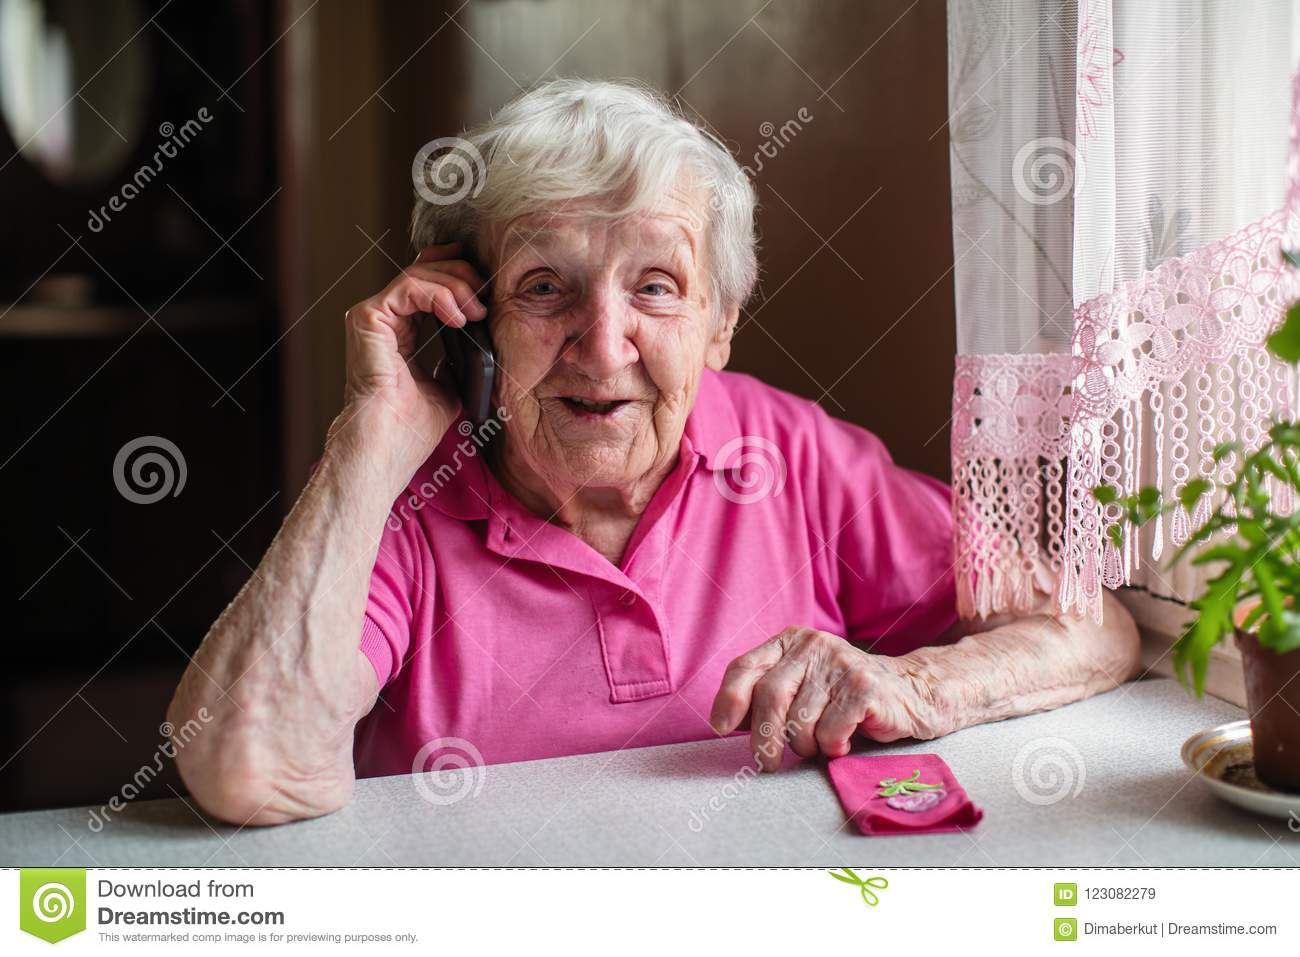phone: (434, 217, 500, 435)
talk: (342, 203, 699, 500)
